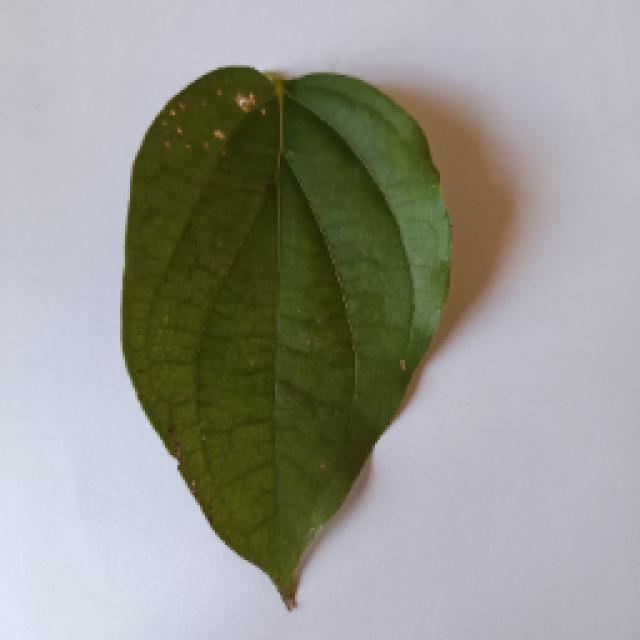pollu-disease: (105, 65, 470, 605)
